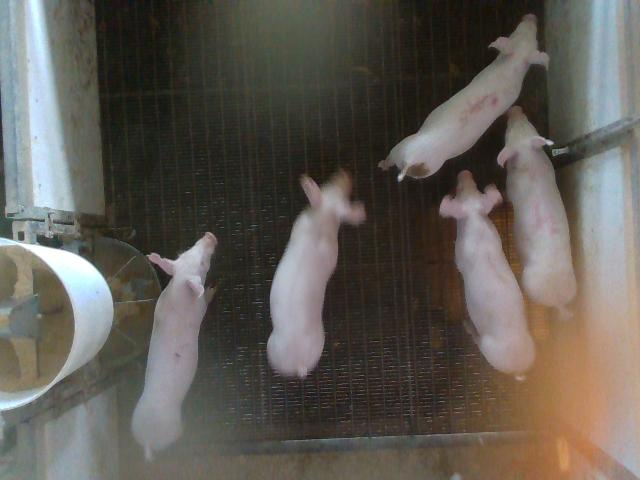pig-4: (498, 106, 576, 319)
pig-5: (379, 15, 548, 181)
